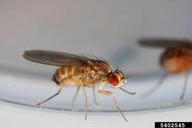Fruit fly: (23, 46, 133, 123)
